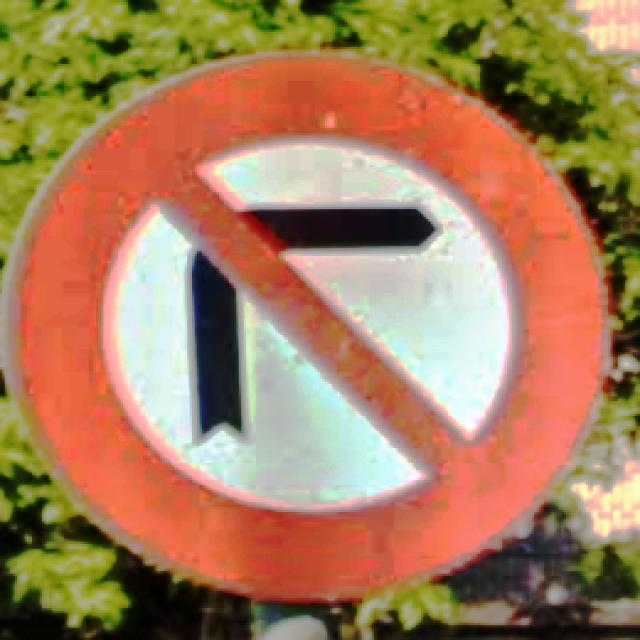noturnright: (2, 52, 610, 606)
